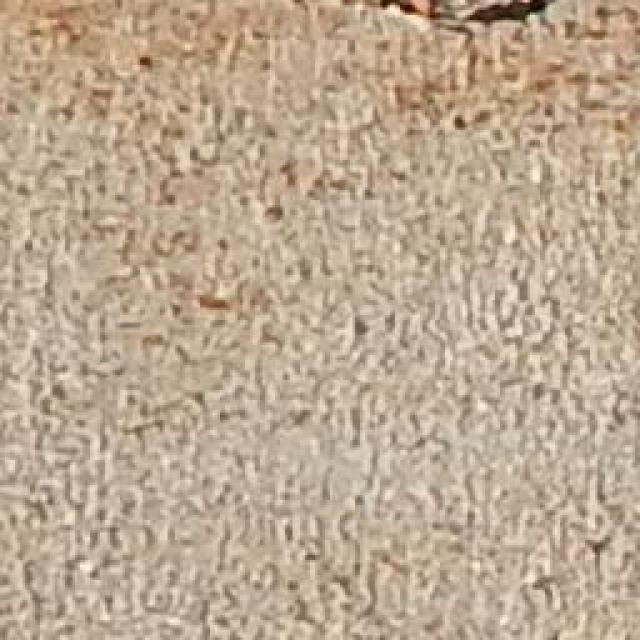concrete-crack: (375, 0, 569, 42)
